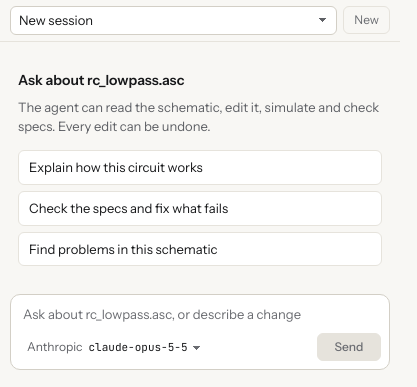
Test: ChatPanel › offers suggestions for the open circuit and fills the composer
What coordinates should you click on to do the following:
click the button "Explain how this circuit works"
I would click on:
 (200, 167)
Its box is [18, 150, 382, 185].
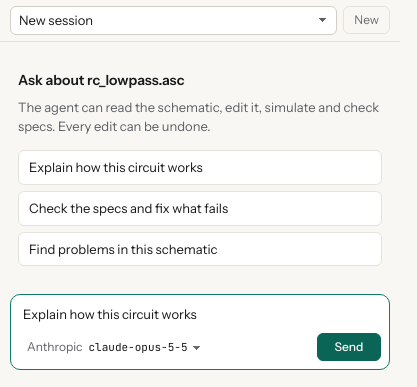
Check: the text box named "Message" holds "Explain how this circuit works", box [19, 303, 381, 327]
